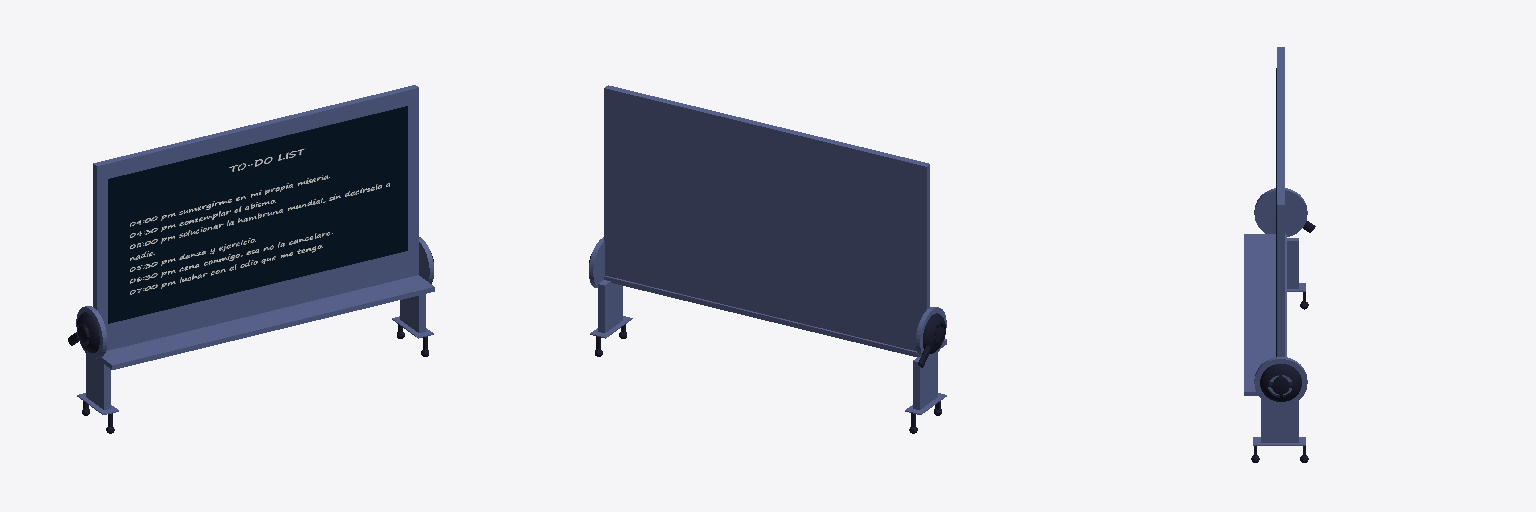
3 views of the same model, side by side, from view 1: azimuth 30°, elevation 25°; view 2: azimuth 150°, elevation 25°; view 3: azimuth 270°, elevation 25° (orthographic).
Parts seen in each view (by area): view 1: pCube15 polySurface11, pCube15 polySurface20, pCube15 polySurface5, pCube15 polySurface17, pCube15 polySurface4, pCube15 polySurface16, pCube15 polySurface12; view 2: pCube15 polySurface20, pCube15 polySurface5, pCube15 polySurface4, pCube15 polySurface17, pCube15 polySurface16, pCube15 polySurface13; view 3: pCube15 polySurface5, pCube15 polySurface20, pCube15 polySurface12, pCube15 polySurface4, pCube15 polySurface3, pCube15 polySurface13, pCube15 polySurface17.
Boxes of the visible parts, x1=… form: pCube15 polySurface11: x1=108, y1=106, x2=407, y2=323; pCube15 polySurface20: x1=93, y1=85, x2=418, y2=350; pCube15 polySurface5: x1=97, y1=275, x2=434, y2=369; pCube15 polySurface17: x1=86, y1=354, x2=110, y2=409; pCube15 polySurface4: x1=400, y1=294, x2=425, y2=332; pCube15 polySurface16: x1=77, y1=312, x2=99, y2=352; pCube15 polySurface12: x1=76, y1=306, x2=107, y2=358; pCube15 polySurface20: x1=604, y1=85, x2=929, y2=350; pCube15 polySurface5: x1=604, y1=276, x2=946, y2=356; pCube15 polySurface4: x1=598, y1=280, x2=622, y2=332; pCube15 polySurface17: x1=913, y1=354, x2=937, y2=409; pCube15 polySurface16: x1=923, y1=313, x2=945, y2=353; pCube15 polySurface13: x1=589, y1=237, x2=604, y2=287; pCube15 polySurface5: x1=1244, y1=234, x2=1286, y2=395; pCube15 polySurface20: x1=1277, y1=47, x2=1284, y2=356; pCube15 polySurface12: x1=1254, y1=188, x2=1307, y2=236; pCube15 polySurface4: x1=1261, y1=399, x2=1298, y2=442; pCube15 polySurface3: x1=1260, y1=364, x2=1301, y2=401; pCube15 polySurface13: x1=1254, y1=357, x2=1307, y2=406; pCube15 polySurface17: x1=1287, y1=238, x2=1298, y2=288.
Size of the model in its own units: 5.29 by 3.78 by 0.9408.
Materials: 3 (3 with a texture image).